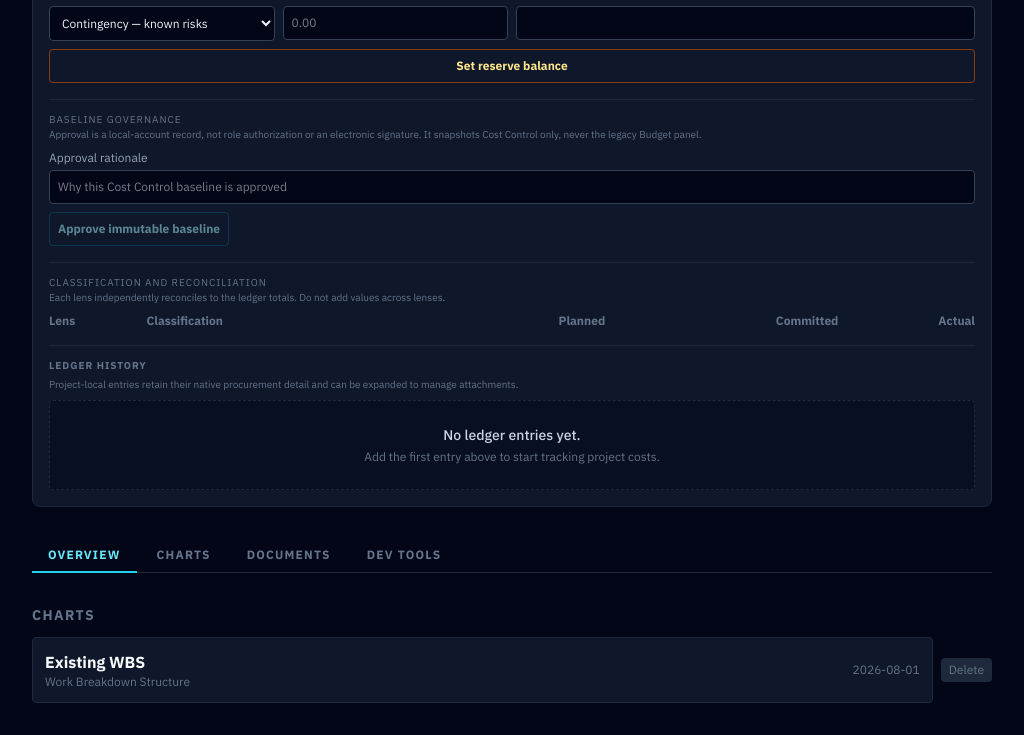
Test: Dashboard chart deletion › deletes the chart and removes it from the list once Yes is confirmed
(page scrolled)
expect the text "Existing WBS" is shown: met, box [45,652,145,672]
Click the button with aria-label "delete existing wbs". click: [966, 670]
box: [941,658,992,682]
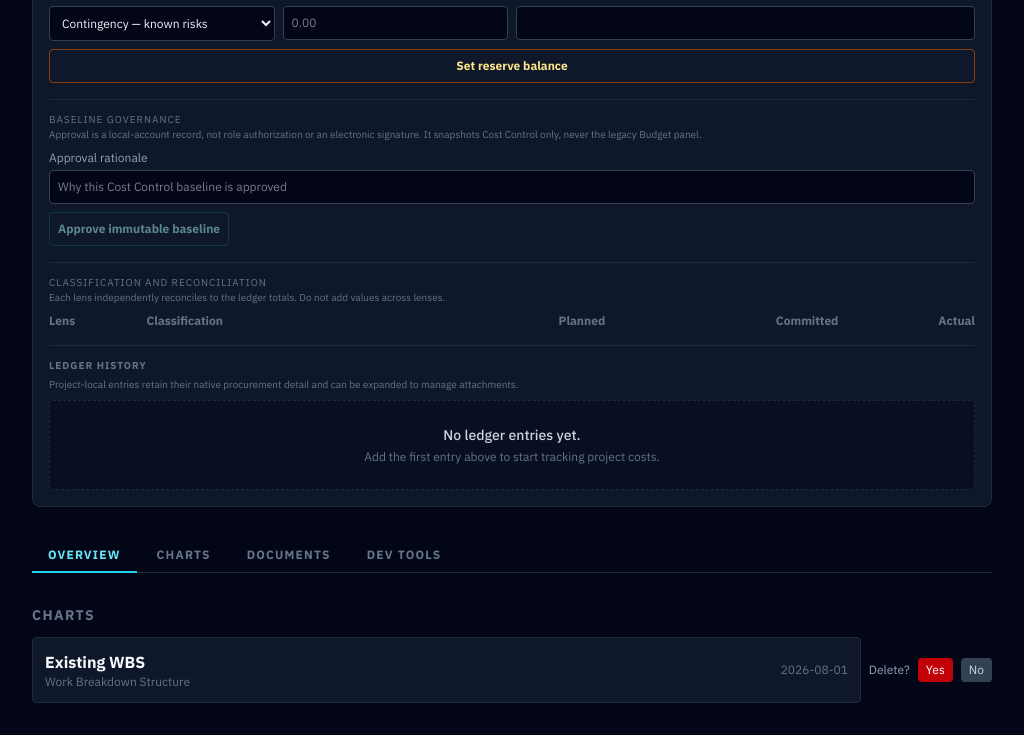
Click the button with aria-label "confirm delete existing wbs". click: [935, 670]
box: [918,658,953,682]
(page scrolled)
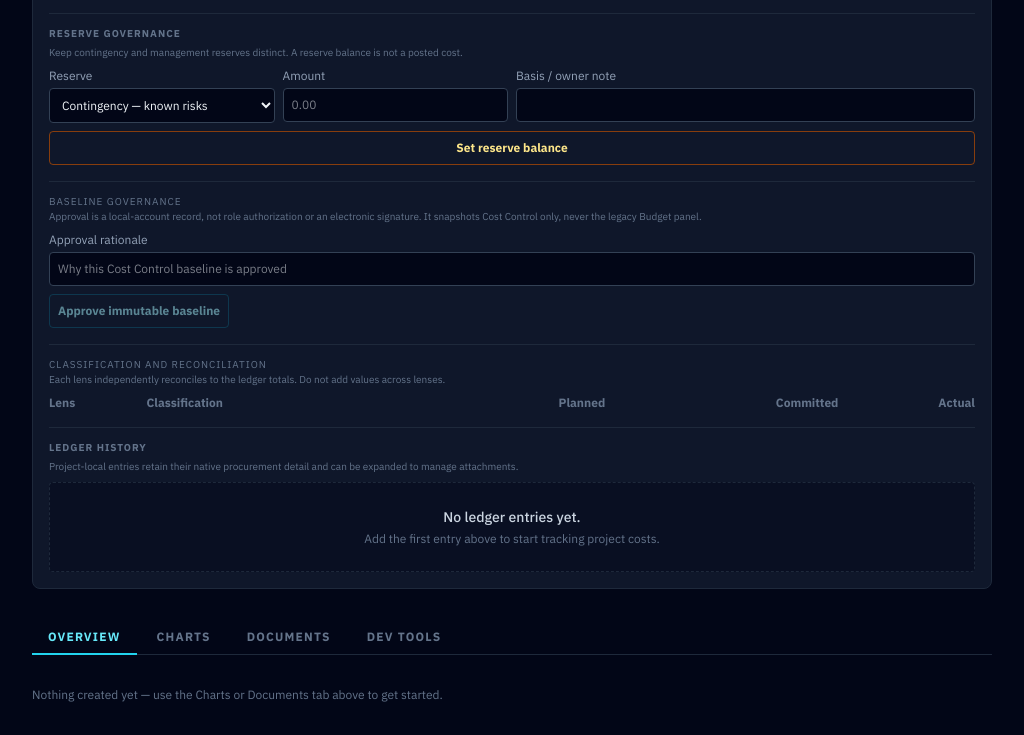
expect the button "Existing WBS" is gone: met
